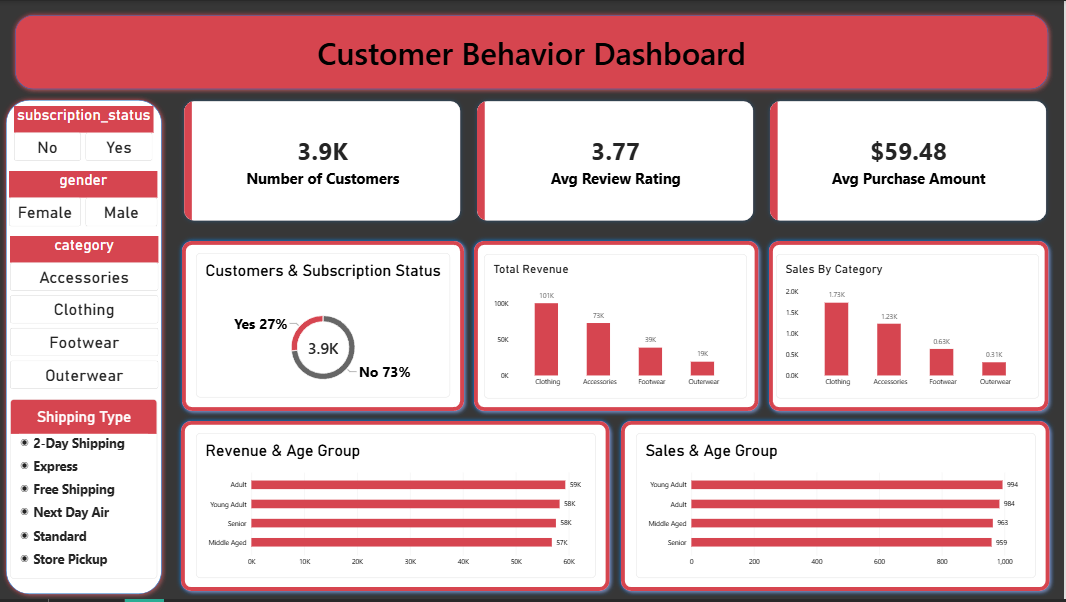

The dashboard page shown, as its layout file describes it:
{"tool":"powerbi","page":{"name":"Page 1","canvas":[1920,1080],"ordinal":0},"visuals":[{"type":"cardVisual","fields":{"Data":["cust_shopping_behavior customers.Number of Customers","cust_shopping_behavior customers.Avg Review Rating","cust_shopping_behavior customers.Avg Purchase Amount"]},"box":[321,169.2,1581,238.6],"z":0},{"type":"shape","box":[18.2,15.9,1884.1,152.3],"z":1000},{"type":"shape","box":[320.5,425,527.3,325],"z":2000},{"type":"donutChart","title":"Customers & Subscription Status ","fields":{"Category":["cust_shopping_behavior customers.subscription_status"],"Y":["CountNonNull(cust_shopping_behavior customers.customer_id)"]},"box":[353.5,455.4,459.1,261.4],"z":3000},{"type":"shape","box":[847.7,425,531.8,325],"z":4000},{"type":"shape","box":[1379.5,425,522.7,325],"z":5000},{"type":"clusteredColumnChart","title":"Total Revenue","fields":{"Category":["cust_shopping_behavior customers.category"],"Y":["Sum(cust_shopping_behavior customers.purchase_amount)"]},"box":[875,456.8,475,261.4],"z":6000},{"type":"clusteredColumnChart","title":"Sales By Category","fields":{"Category":["cust_shopping_behavior customers.category"],"Y":["CountNonNull(cust_shopping_behavior customers.customer_id)"]},"box":[1402.3,456.8,475,261.4],"z":7000},{"type":"shape","box":[2.1,169.3,299.4,910.5],"z":8000},{"type":"advancedSlicerVisual","fields":{"Values":["cust_shopping_behavior customers.subscription_status"]},"box":[24.8,189.9,251.9,99.1],"z":9000},{"type":"advancedSlicerVisual","fields":{"Values":["cust_shopping_behavior customers.gender"]},"box":[15.9,306.8,268.2,100],"z":10000},{"type":"advancedSlicerVisual","fields":{"Values":["cust_shopping_behavior customers.category"]},"box":[18.2,425,268.2,279.5],"z":11000},{"type":"listSlicer","title":"Shipping Type","fields":{"Values":["cust_shopping_behavior customers.shipping_type"]},"box":[18.2,718.2,265.9,325],"z":12000},{"type":"shape","box":[318.1,749,791.9,324.9],"z":13000},{"type":"clusteredBarChart","title":"Revenue & Age Group","fields":{"Category":["cust_shopping_behavior customers.age_group"],"Y":["Sum(cust_shopping_behavior customers.purchase_amount)"]},"box":[354.2,780.6,722,261.7],"z":14000},{"type":"shape","box":[1112.3,749,791.9,324.9],"z":14001},{"type":"clusteredBarChart","title":"Sales & Age Group","fields":{"Category":["cust_shopping_behavior customers.age_group"],"Y":["CountNonNull(cust_shopping_behavior customers.customer_id)"]},"box":[1148.4,780.6,722,261.7],"z":14002}]}

Visuals, with their boxes in screenshot pixels (x1, y1, x2, y2), scaled from the page's 1920x1080 canvas onto the 1066x602 screenshot:
cardVisual - cust_shopping_behavior customers.Number of Customers x cust_shopping_behavior customers.Avg Review Rating: <region>178, 94, 1056, 227</region>
shape: <region>10, 9, 1056, 94</region>
shape: <region>178, 237, 471, 418</region>
"Customers & Subscription Status " donutChart: <region>196, 254, 451, 400</region>
shape: <region>471, 237, 766, 418</region>
shape: <region>766, 237, 1056, 418</region>
"Total Revenue" clusteredColumnChart: <region>486, 255, 750, 400</region>
"Sales By Category" clusteredColumnChart: <region>779, 255, 1042, 400</region>
shape: <region>1, 94, 167, 601</region>
advancedSlicerVisual - cust_shopping_behavior customers.subscription_status: <region>14, 106, 154, 161</region>
advancedSlicerVisual - cust_shopping_behavior customers.gender: <region>9, 171, 158, 227</region>
advancedSlicerVisual - cust_shopping_behavior customers.category: <region>10, 237, 159, 393</region>
"Shipping Type" listSlicer: <region>10, 400, 158, 581</region>
shape: <region>177, 417, 616, 599</region>
"Revenue & Age Group" clusteredBarChart: <region>197, 435, 598, 581</region>
shape: <region>618, 417, 1057, 599</region>
"Sales & Age Group" clusteredBarChart: <region>638, 435, 1038, 581</region>
